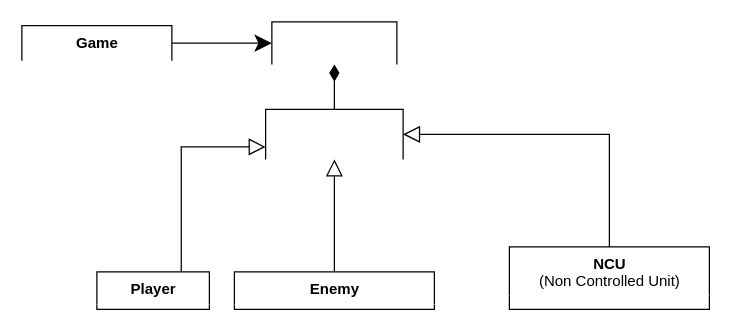
Some shapes in this 731 by 331 pixel diagram are drawn without their labels. Here are the shapes that lost their labels. From the top down, the box of each, then its label:
(271, 21, 397, 64): Map
(264, 108, 403, 159): <<abstract>> MapObject
